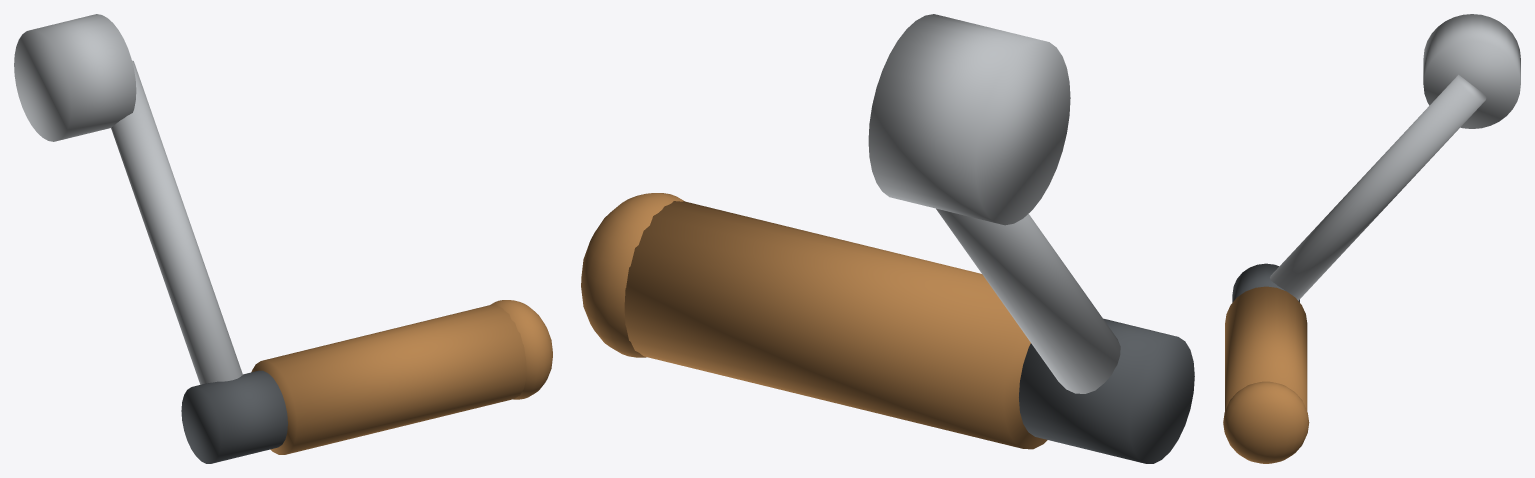
The model's file is part_handle.glb.
The picture shows the model from 3 angles, left to right: view 1: azimuth 30°, elevation 25°; view 2: azimuth 150°, elevation 25°; view 3: azimuth 270°, elevation 25°; orthographic projection. The views are drawn at different scales.
Visible parts, largest first — view 1: SM_HandleWoodGrip, SM_HandleArm, SM_HandleHub, SM_HandleGripPivot, SM_HandleWoodCap; view 2: SM_HandleWoodGrip, SM_HandleHub, SM_HandleGripPivot, SM_HandleArm, SM_HandleWoodCap; view 3: SM_HandleArm, SM_HandleWoodGrip, SM_HandleHub, SM_HandleWoodCap, SM_HandleGripPivot.
Boxes of the visible parts, x1,y1,x2,y2 form: SM_HandleWoodGrip: (251,304,526,454); SM_HandleArm: (111,60,242,384); SM_HandleHub: (14,14,136,141); SM_HandleGripPivot: (181,370,287,463); SM_HandleWoodCap: (490,300,552,399); SM_HandleWoodGrip: (624,201,1047,449); SM_HandleHub: (868,14,1070,225); SM_HandleGripPivot: (1019,318,1194,463); SM_HandleArm: (936,208,1120,393); SM_HandleWoodCap: (581,193,684,357); SM_HandleArm: (1270,74,1486,300); SM_HandleWoodGrip: (1225,286,1307,410); SM_HandleHub: (1423,14,1520,128); SM_HandleWoodCap: (1223,381,1309,463); SM_HandleGripPivot: (1232,263,1299,302).
Size of the model in its own units: 0.1993 by 0.179 by 0.159.
